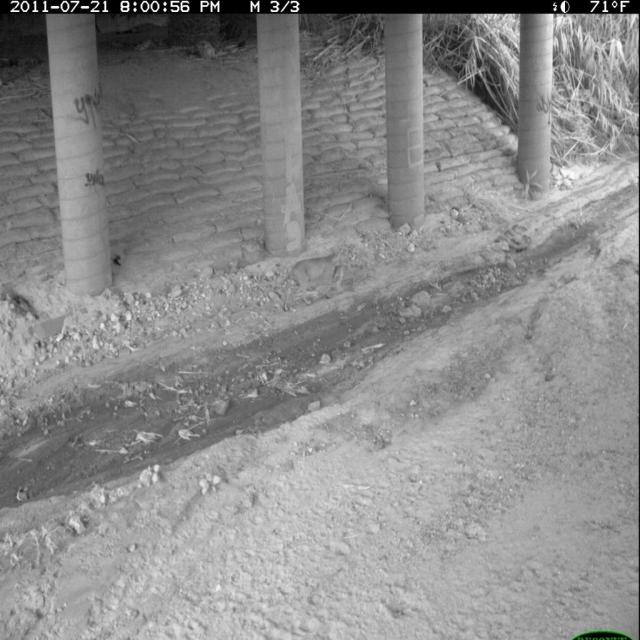bobcat: (280, 243, 345, 317)
rabbit: (334, 261, 348, 294)
